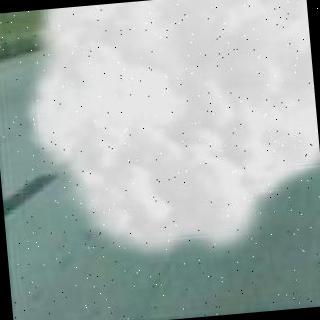smoke: (31, 0, 320, 247)
